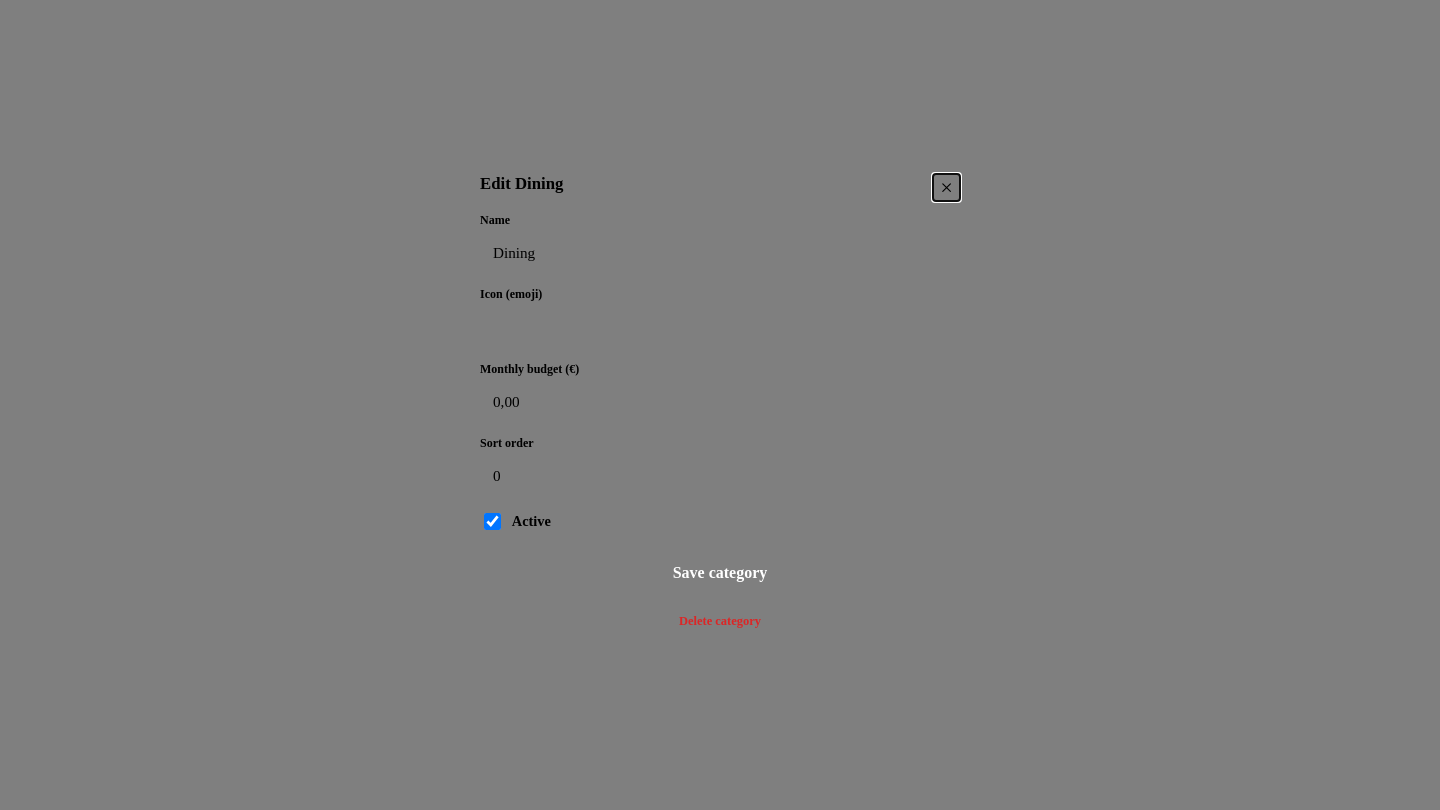
deleting a category or account from a window › deletes outright what the server counts nothing for
This screenshot has width=1440, height=810.
Step 1. Click the button "Delete category" → click(720, 621), box [480,608,960,634]
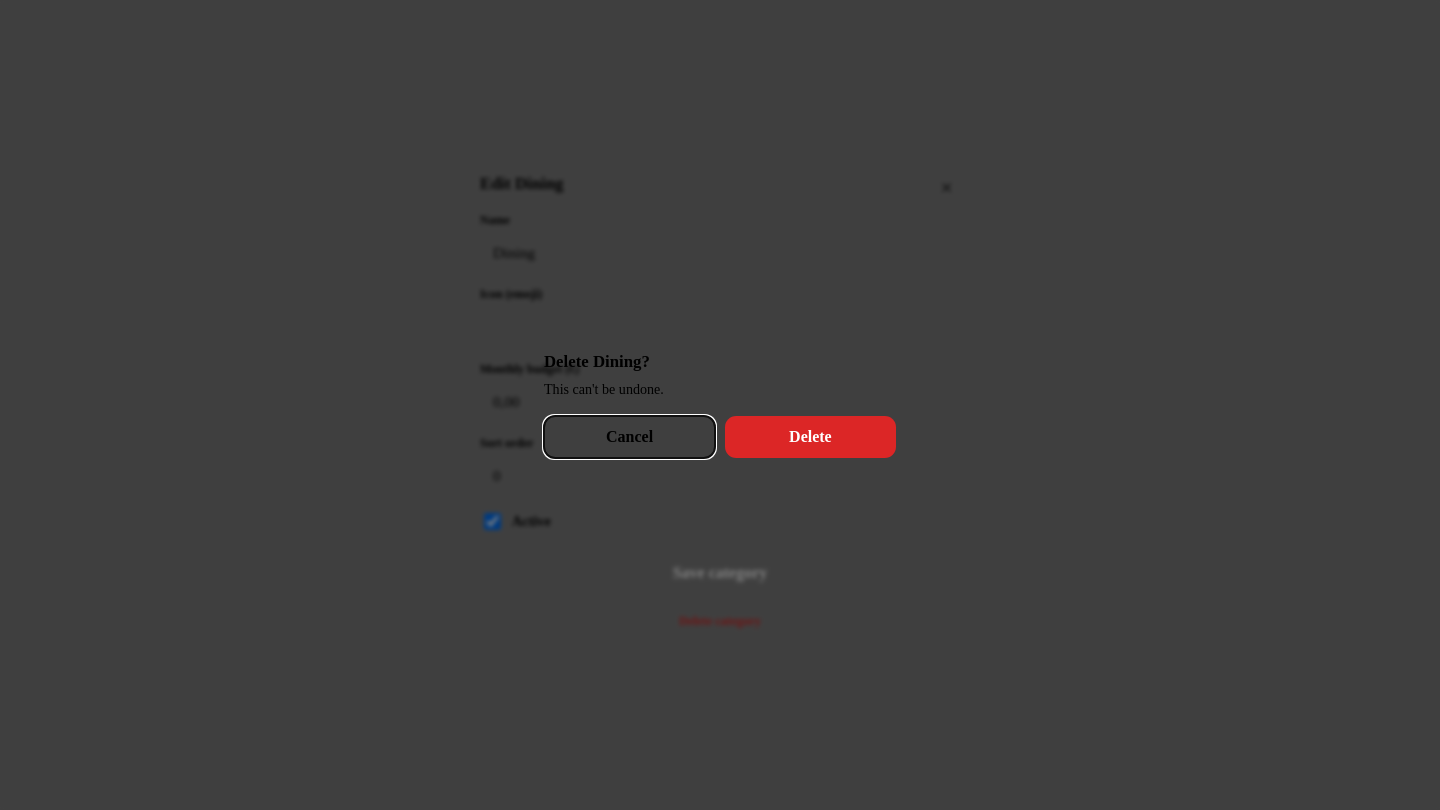
Now the text "This can't be undone." is shown, box [544,381,664,397]
